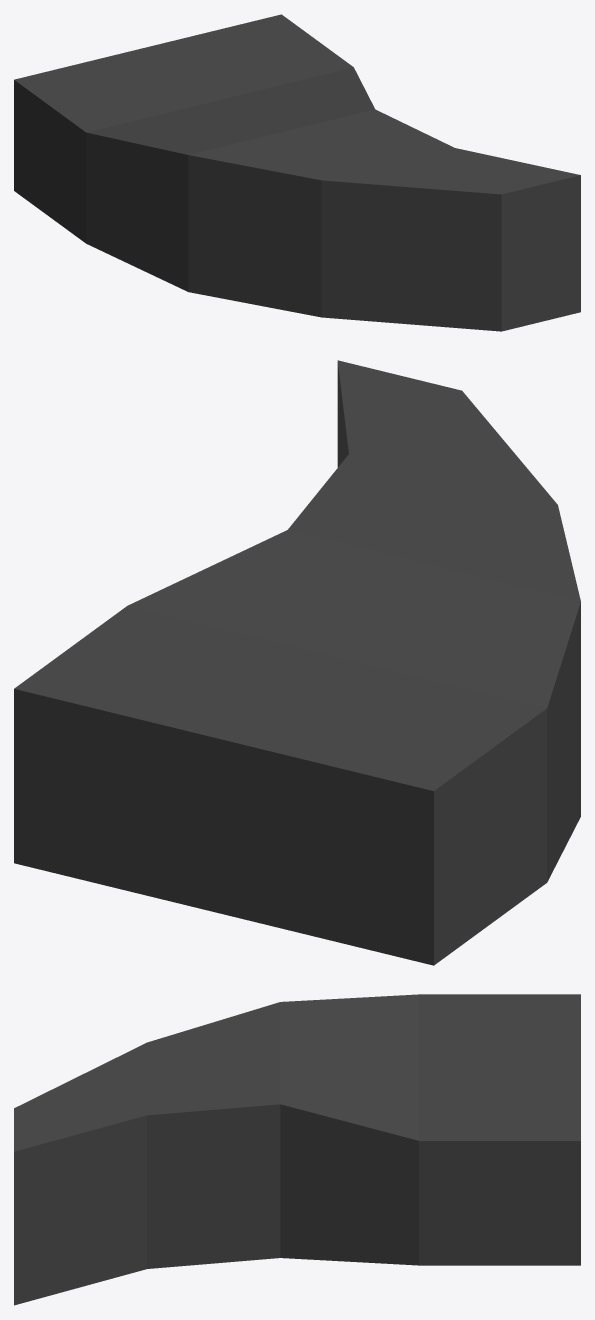
Rendered from SniperRifle2_01_3.fbx.
3 views of the same model, one above another, from view 1: azimuth 30°, elevation 25°; view 2: azimuth 150°, elevation 25°; view 3: azimuth 270°, elevation 25° (orthographic). The views are drawn at different scales.
Visible parts, largest first — view 1: SniperRifle2_01_3; view 2: SniperRifle2_01_3; view 3: SniperRifle2_01_3.
Part boxes in pixels (left/top/right/bottom): SniperRifle2_01_3: left=14, top=14, right=580, bottom=331; SniperRifle2_01_3: left=14, top=360, right=580, bottom=965; SniperRifle2_01_3: left=14, top=994, right=580, bottom=1305.
Bounding box in the file's own units: 0.0178 × 0.00741 × 0.0248.
